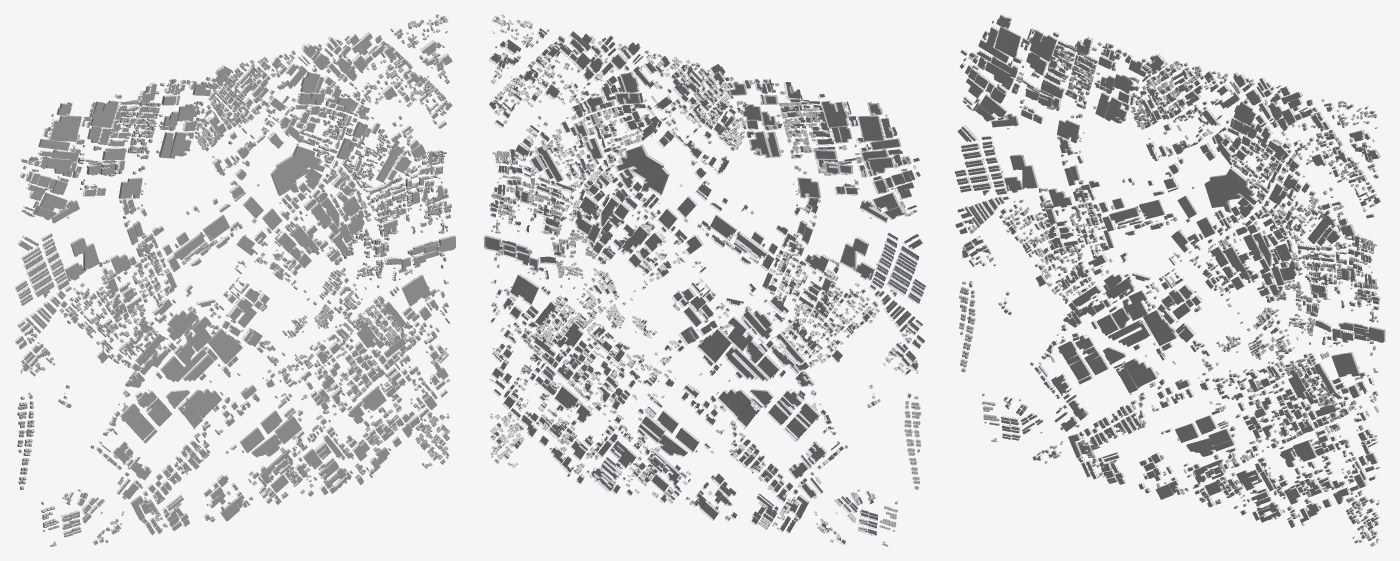
Rendered from buildings_4_0.obj.
3 views of the same model, side by side, from view 1: azimuth 30°, elevation 25°; view 2: azimuth 150°, elevation 25°; view 3: azimuth 330°, elevation 25° (orthographic). The views are drawn at different scales.
Size of the model in its own units: 2056 by 2047 by 28.66.
Materials: 5 (5 with a texture image).
